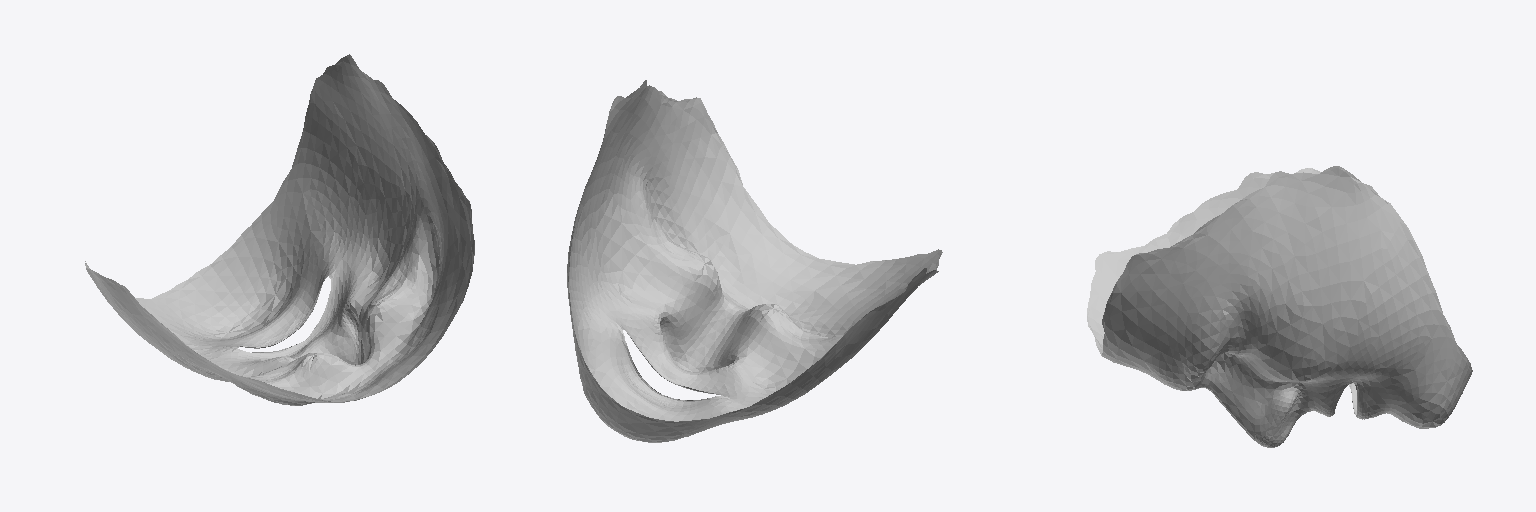
Rendered from face_gab_sfm29.obj.
3 renders of one model, left to right at view 1: azimuth 30°, elevation 25°; view 2: azimuth 150°, elevation 25°; view 3: azimuth 270°, elevation 25°, orthographic.
Size of the model in its own units: 164 by 153 by 179.